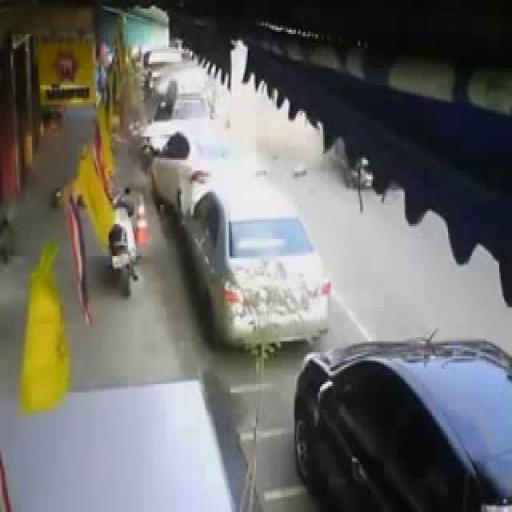Car: (294, 331, 512, 512), (190, 182, 332, 347), (150, 132, 266, 221), (143, 92, 229, 164), (145, 48, 216, 100)
Minor Accident: (142, 90, 264, 224)
Motor: (104, 184, 142, 296)
